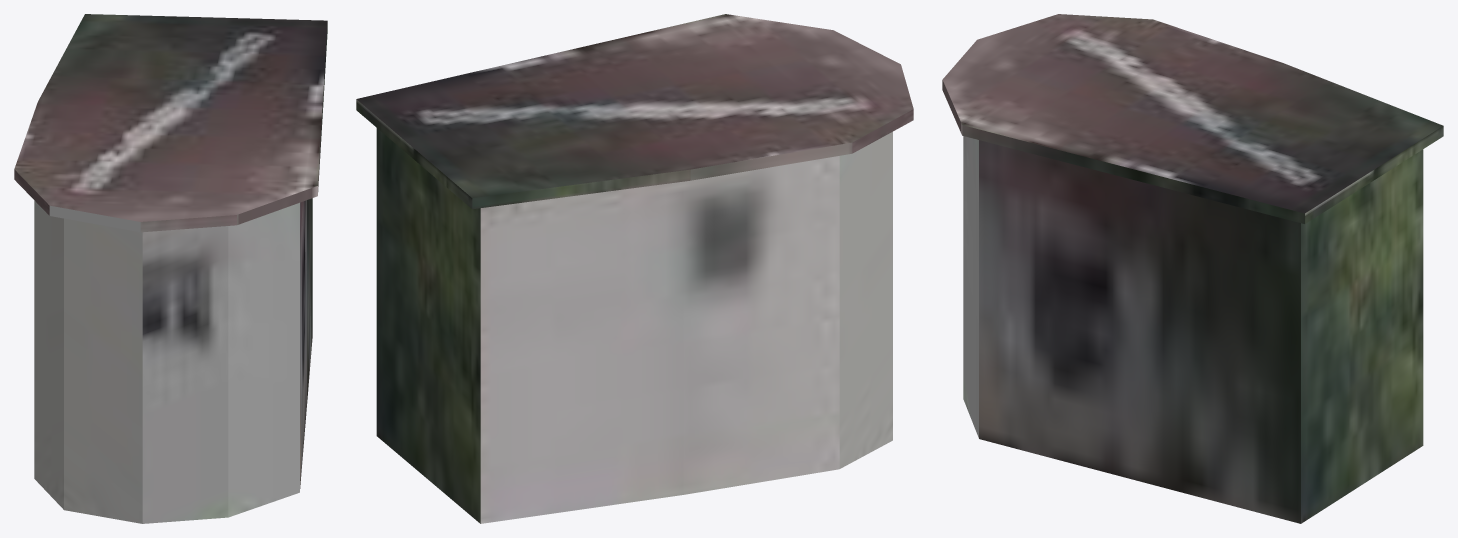
3 views of the same model, side by side, from view 1: azimuth 30°, elevation 25°; view 2: azimuth 150°, elevation 25°; view 3: azimuth 270°, elevation 25° (orthographic). The views are drawn at different scales.
Visible parts, largest first — view 1: B291964039501062A0; view 2: B291964039501062A0; view 3: B291964039501062A0.
Boxes of the visible parts, x1,y1,x2,y2 form: B291964039501062A0: (14, 14, 327, 523); B291964039501062A0: (356, 14, 913, 523); B291964039501062A0: (942, 14, 1443, 523).
Size of the model in its own units: 4.58 by 3.41 by 4.86.
Materials: 1 (1 with a texture image).
